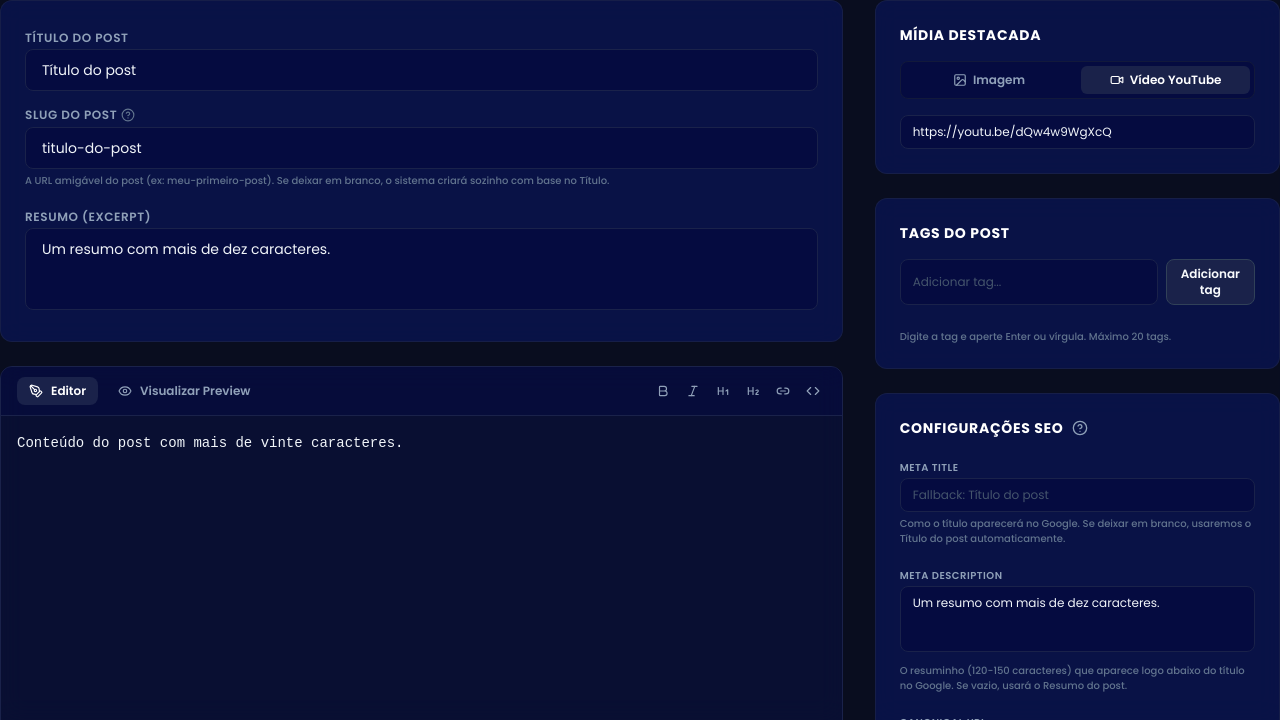
Test case: PostForm — mídia destacada exclusiva › CA-09: link que não é do YouTube bloqueia o envio com a mensagem
Replace the text in the field with placeholder "URL do vídeo (ex: https://youtube.com/...)" with "https://vimeo.com/123456": (1077, 132) [900,115,1255,149]
(page scrolled)
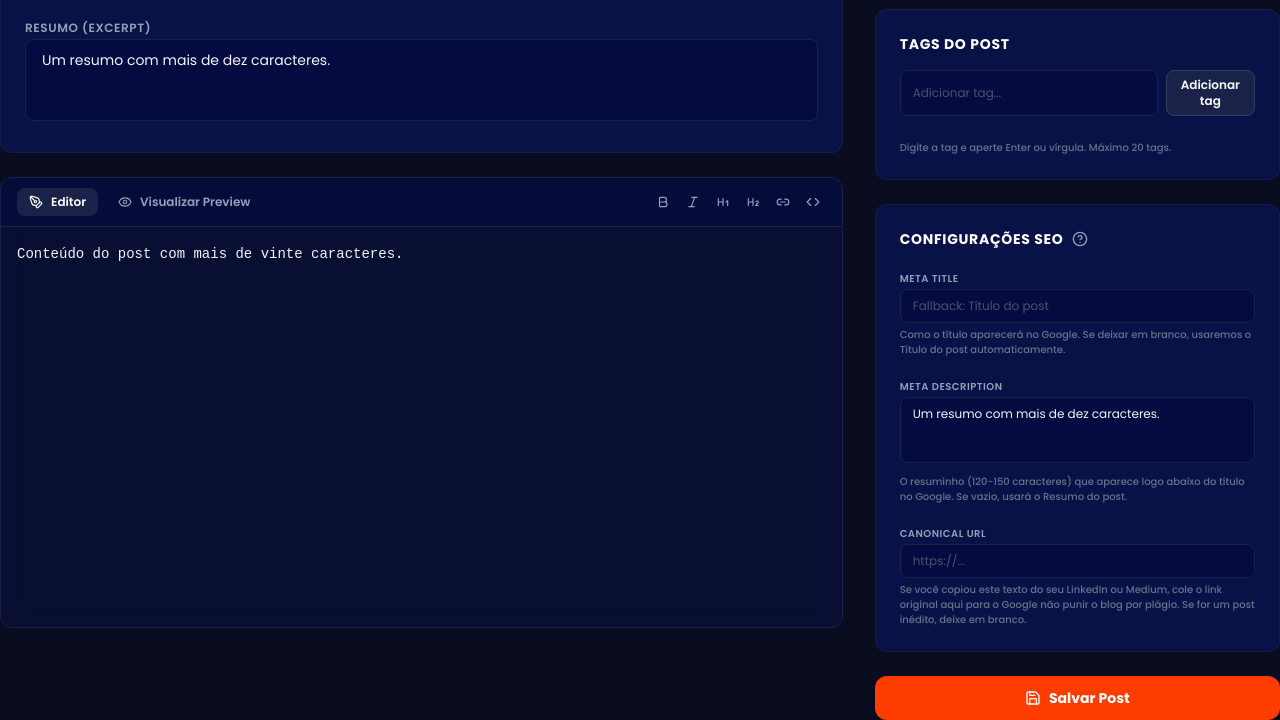
Click the button "Salvar Post": (1077, 698) [875,676,1279,719]
(page scrolled)
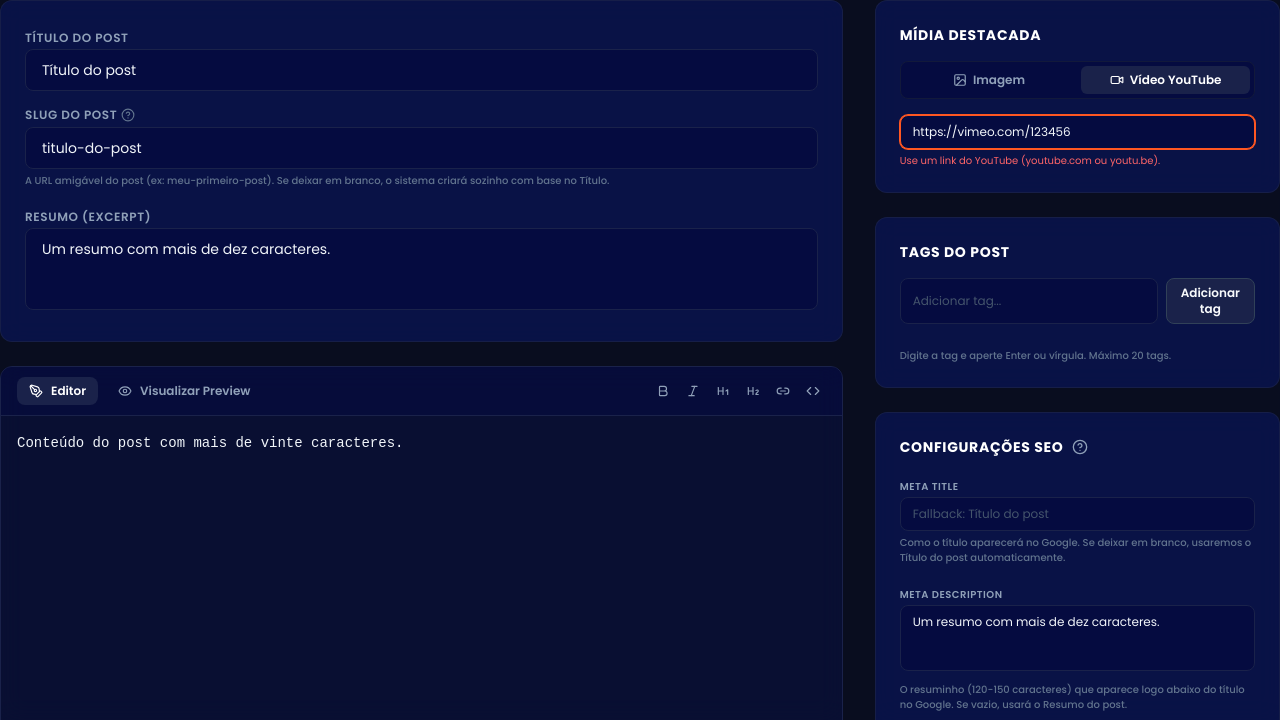
Result: the text "Use um link do YouTube (youtube.com ou youtu.be)." is shown at [900,153,1160,168]
